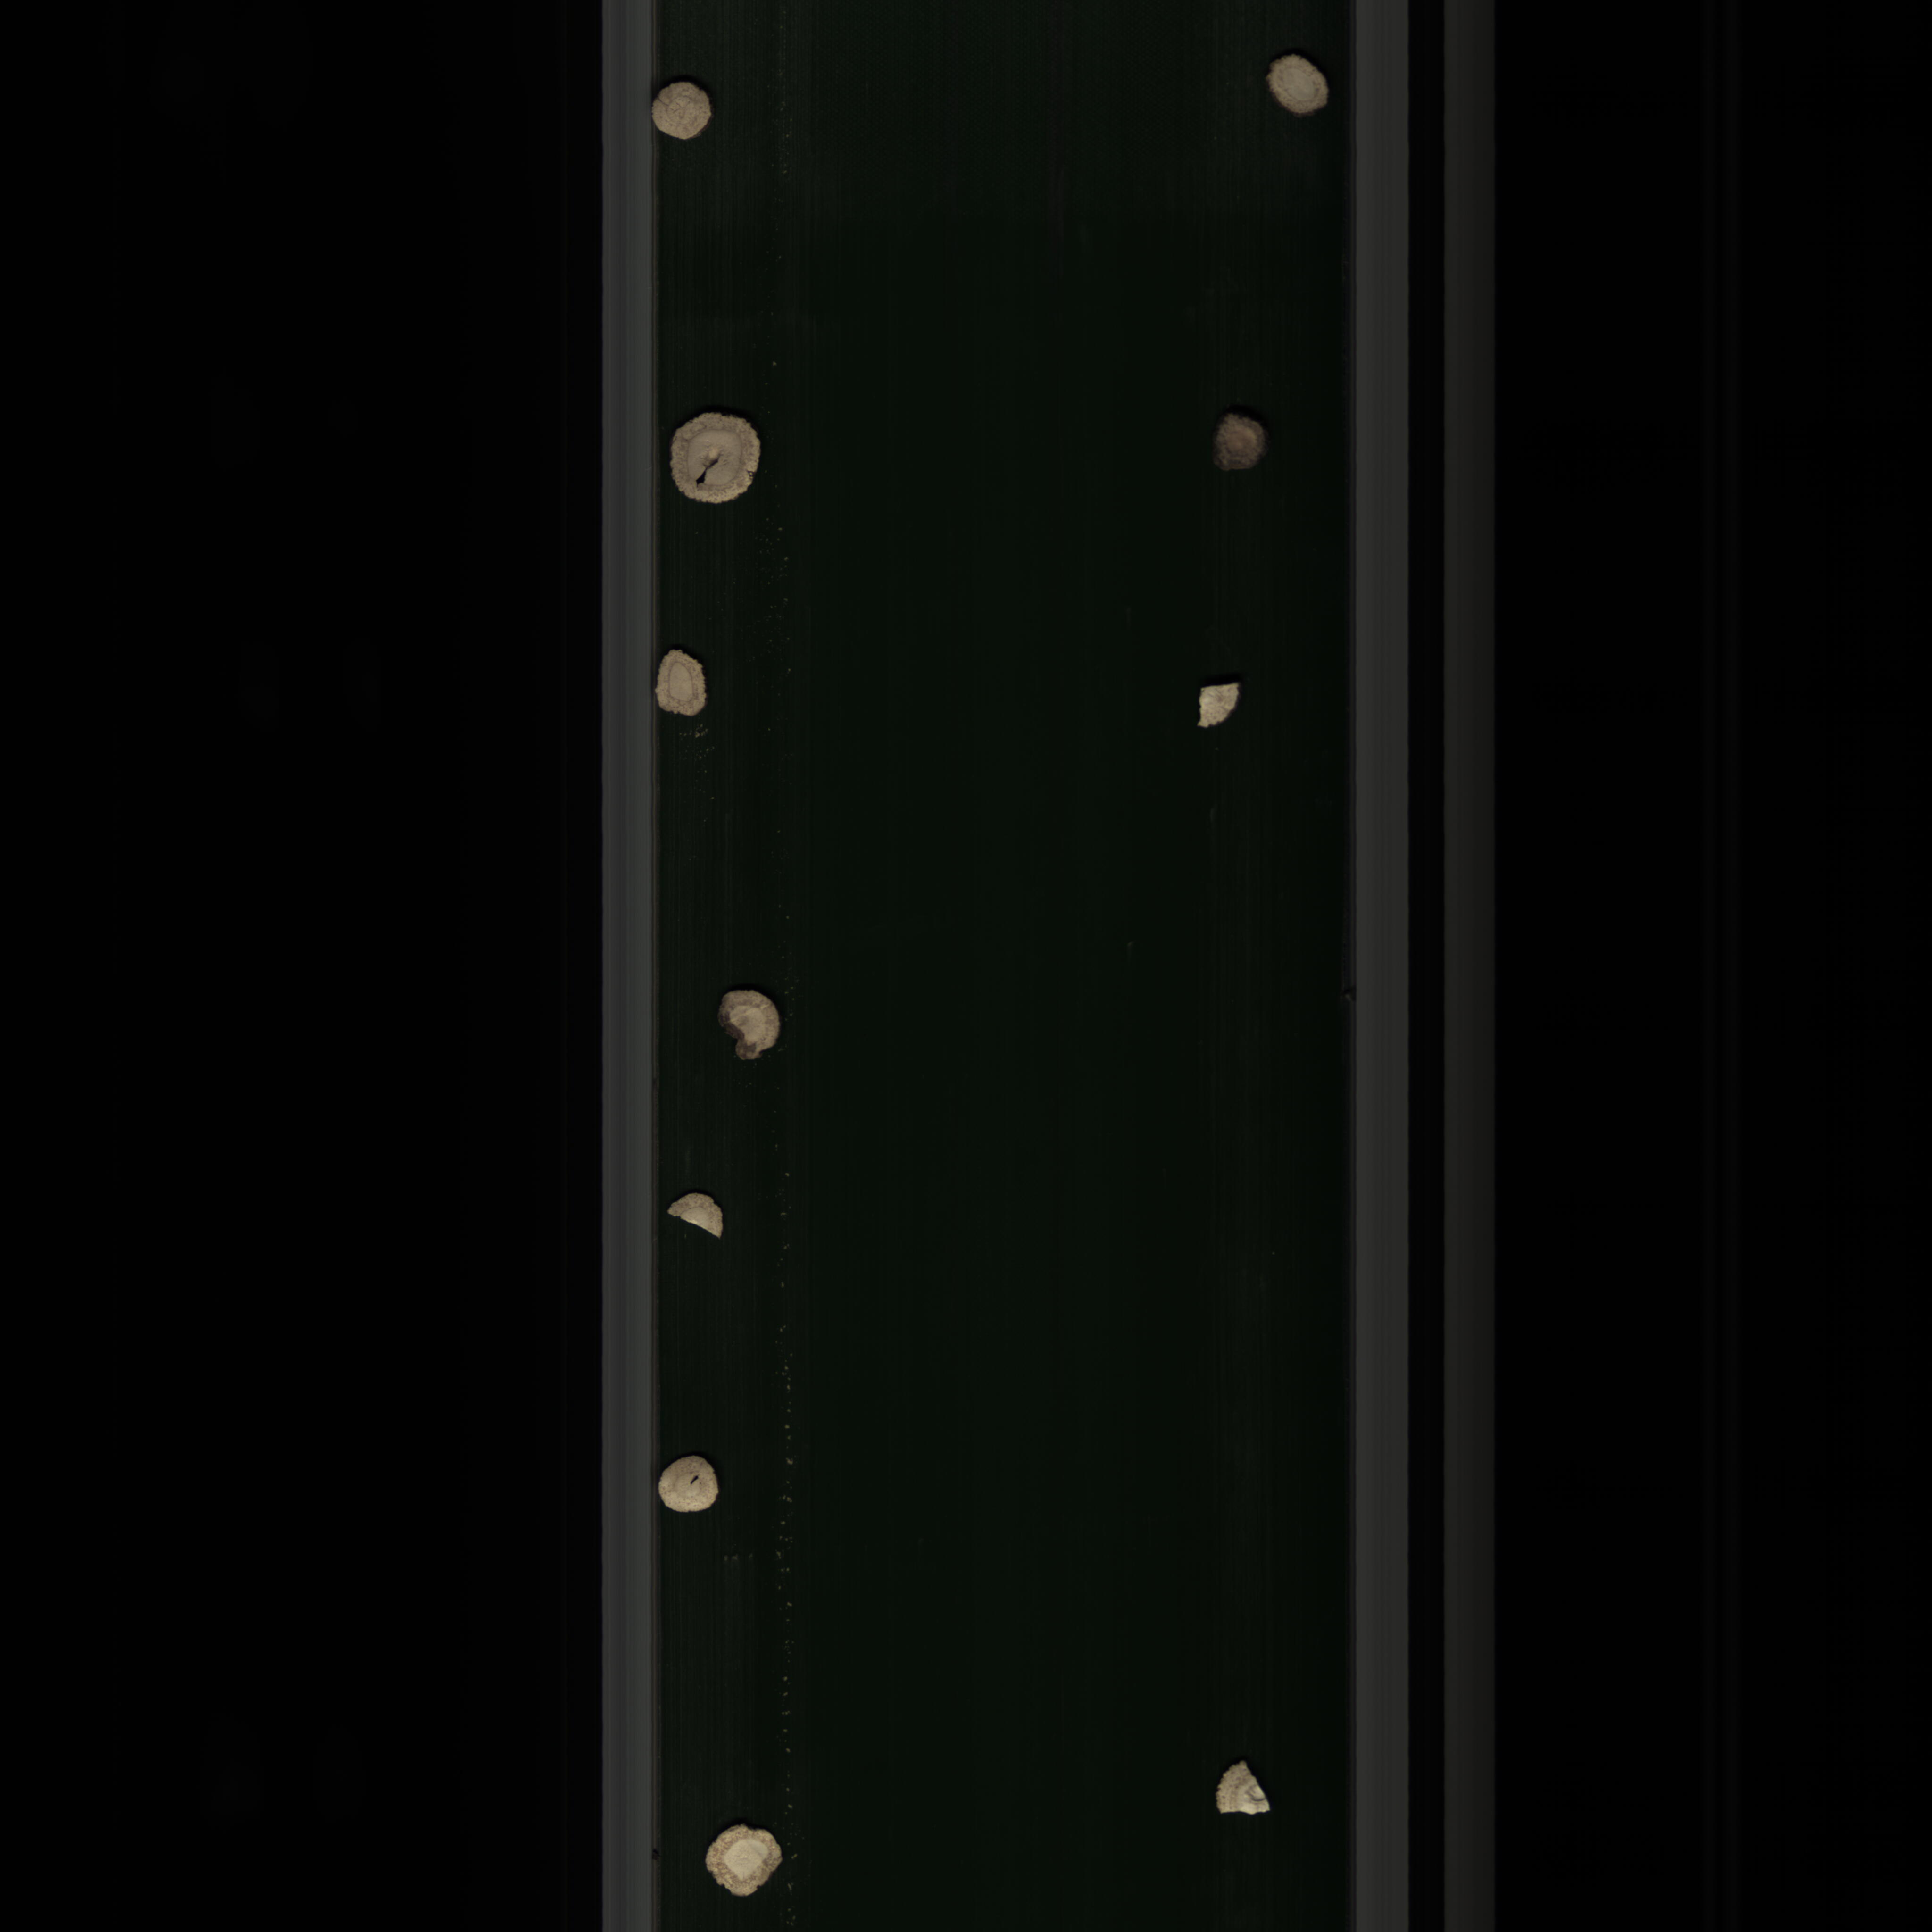debris: (1210, 1748, 1276, 1829), (660, 1189, 738, 1256), (1187, 672, 1247, 741)
hole: (667, 407, 777, 520), (649, 1445, 729, 1523)
moldy: (709, 987, 793, 1065), (1205, 405, 1277, 474)
